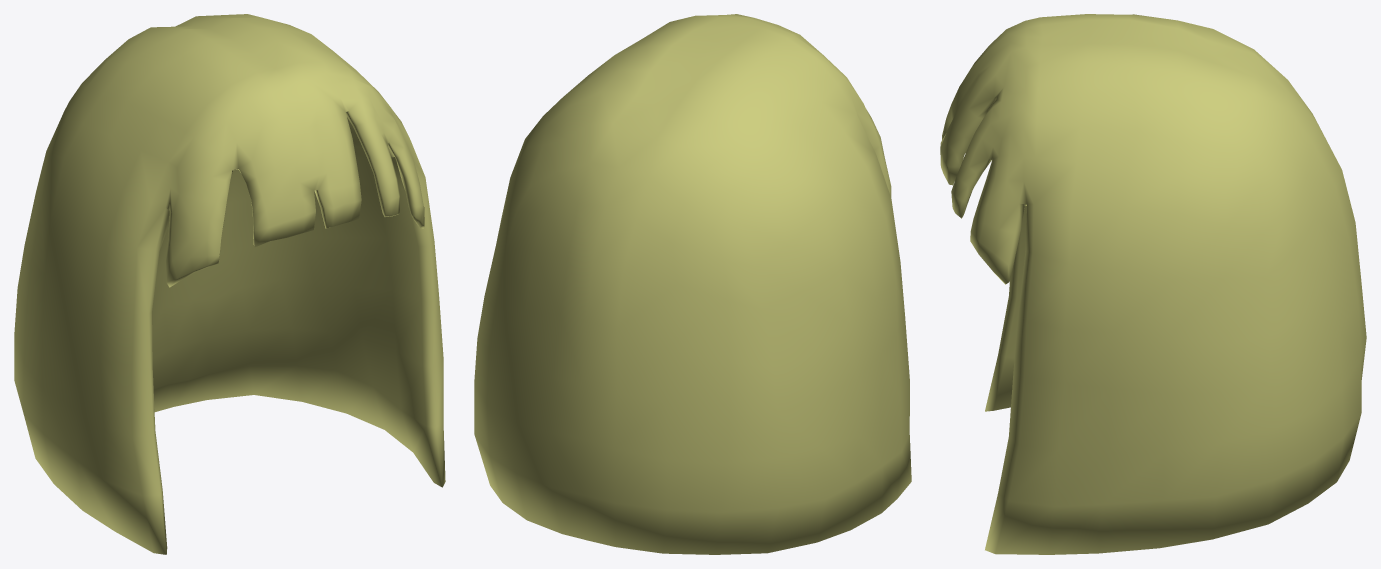
Rendered from f_hair_01.fbx.
3 views of the same model, side by side, from view 1: azimuth 30°, elevation 25°; view 2: azimuth 150°, elevation 25°; view 3: azimuth 270°, elevation 25° (orthographic). The views are drawn at different scales.
Visible parts, largest first — view 1: f_hair_01; view 2: f_hair_01; view 3: f_hair_01.
Boxes of the visible parts, x1,y1,x2,y2 form: f_hair_01: (14, 14, 445, 554); f_hair_01: (474, 14, 911, 554); f_hair_01: (940, 14, 1366, 554).
Size of the model in its own units: 22.07 by 26.2 by 22.55.
